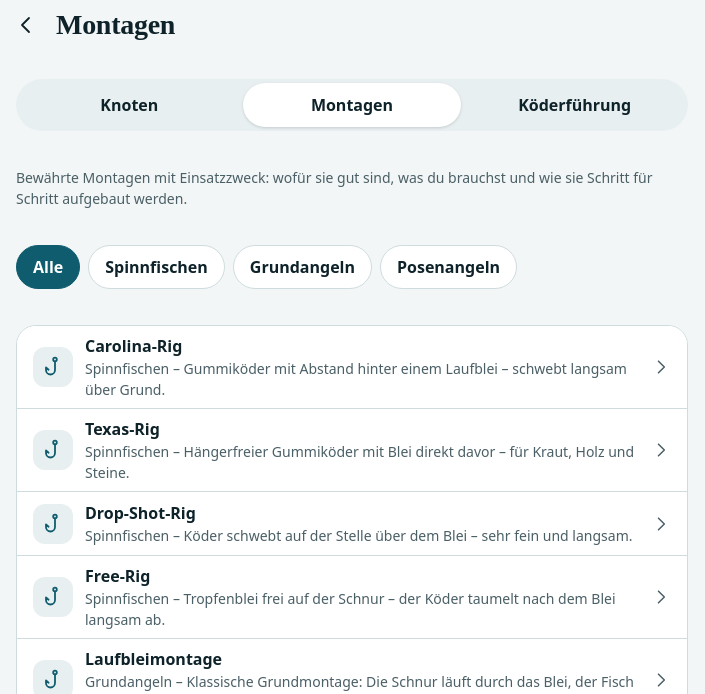
Scenario: Montagen (RIG-3) › Liste mit Filter nach Angelart
Check: the link "Carolina-Rig" is shown, box [17,326,687,408]
Click the button "Posenangeln": (448, 267) [380,245,517,289]
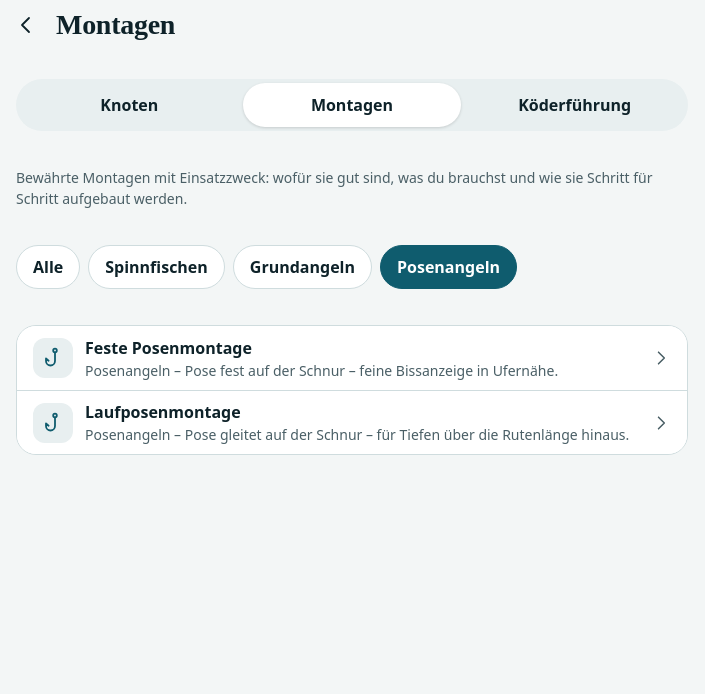
Check: the link "Laufposenmontage" is shown, box [17,390,687,454]
Check: the link "Carolina-Rig" is gone
